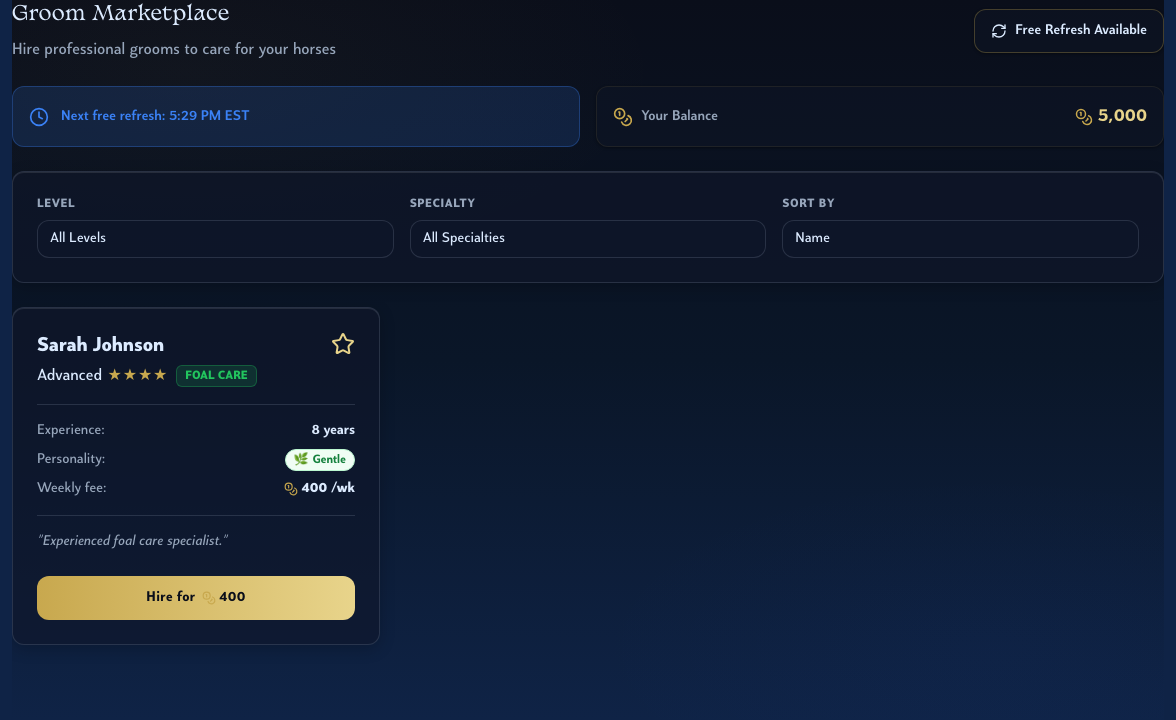
Test: GroomList — refusal codes (Equoria-dosig) › a server fault shows the shared class copy, not server text
Click the button with aria-label "hire sarah johnson" at (196,598), box [37,576,355,620]
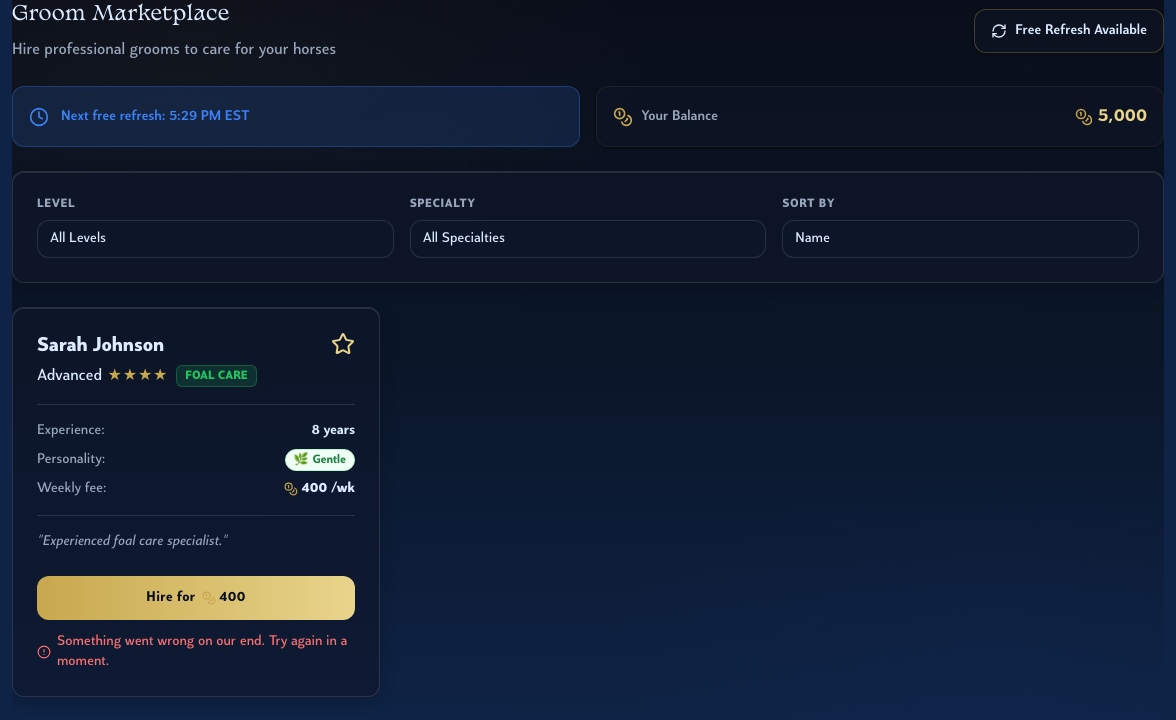
Expected: the message shows "Something went wrong", [57,634,347,669]
